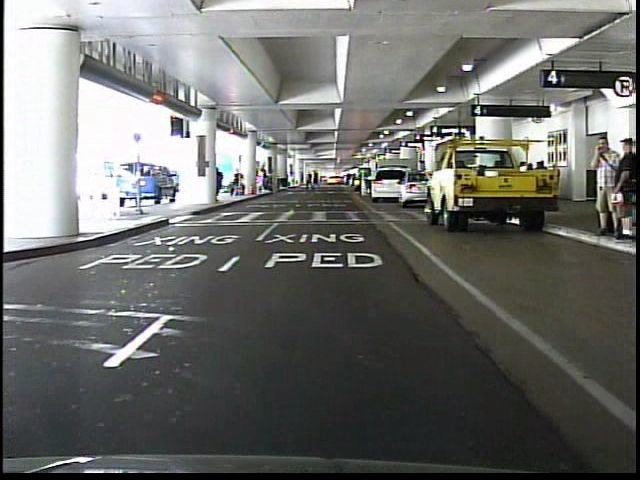person: (586, 134, 617, 237)
